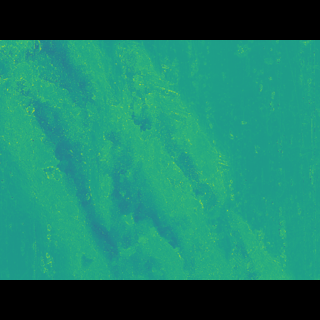Loch: (0, 69, 296, 250)
